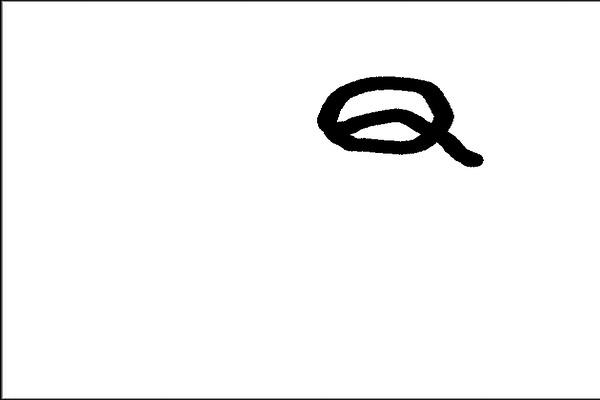Q: (307, 61, 484, 176)
